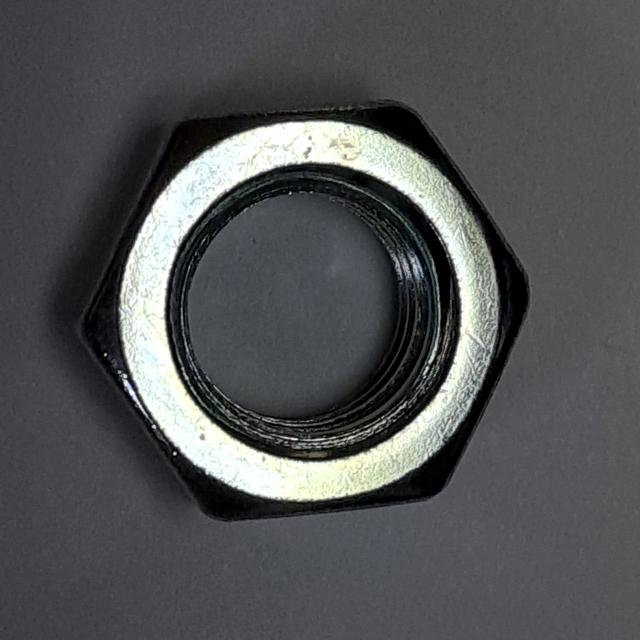Excellent: (42, 85, 542, 536)
